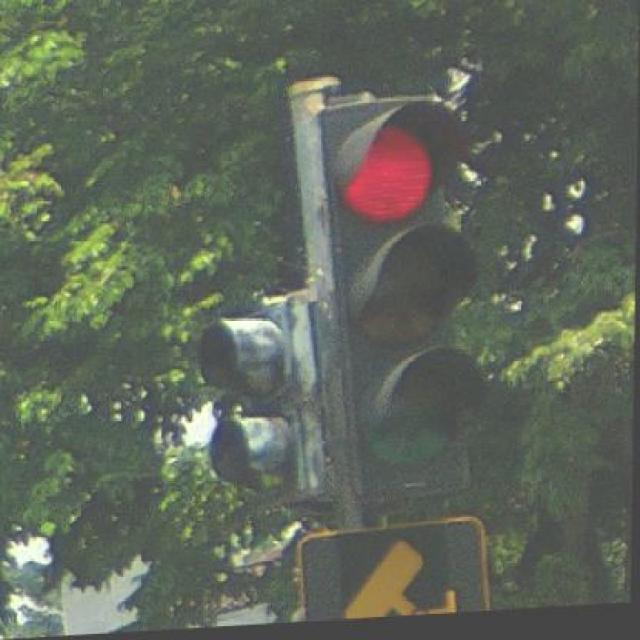traffic light: (293, 85, 488, 531), (320, 95, 477, 350), (199, 299, 315, 498), (199, 306, 299, 419)
